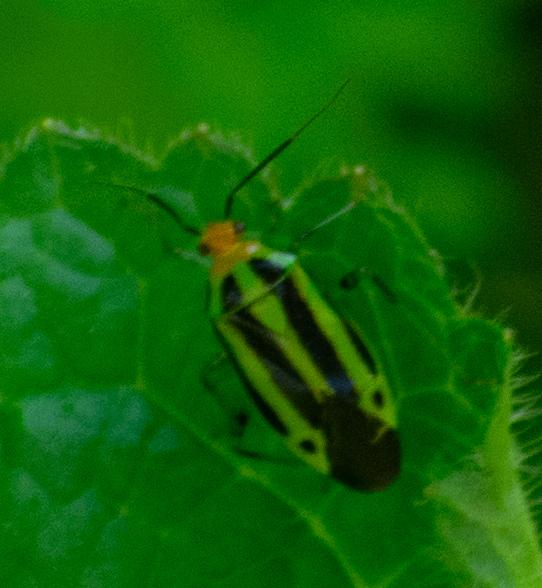plant_bugs: (58, 49, 504, 557)
